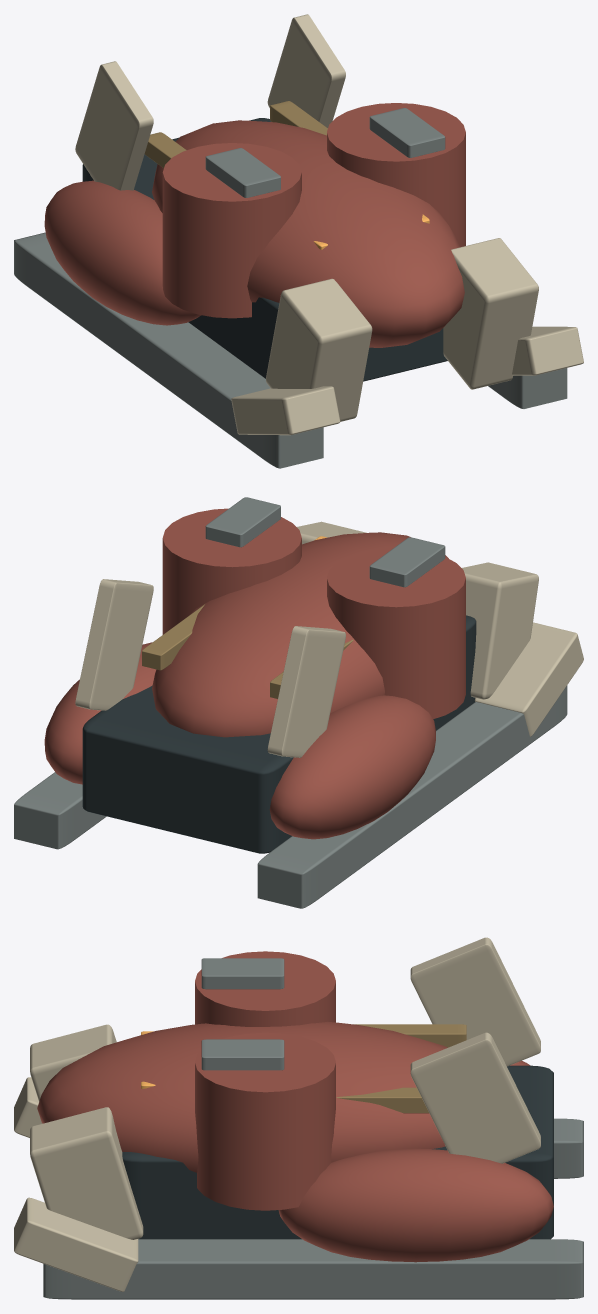
The model's file is warden-machine-split-sled-v1.glb.
3 views of the same model, one above another, from view 1: azimuth 30°, elevation 25°; view 2: azimuth 150°, elevation 25°; view 3: azimuth 270°, elevation 25° (orthographic).
Parts seen in each view (by area): view 1: Hull paint / Housing (×2), Trim / Plate (×6), Hull paint / Cylinder (×2), Steel / Plate (×4), Dark metal / Plate, Brass / Plate (×2); view 2: Hull paint / Housing (×3), Trim / Plate (×5), Steel / Plate (×4), Hull paint / Cylinder (×2), Dark metal / Plate, Brass / Plate; view 3: Hull paint / Housing (×2), Trim / Plate (×6), Steel / Plate (×4), Hull paint / Cylinder (×2), Dark metal / Plate, Brass / Plate (×2).
Boxes of the visible parts, x1=… form: Hull paint / Housing (×2): x1=44, y1=120, x2=464, y2=347; Trim / Plate (×6): x1=75, y1=14, x2=583, y2=435; Hull paint / Cylinder (×2): x1=162, y1=103, x2=465, y2=318; Steel / Plate (×4): x1=14, y1=108, x2=567, y2=468; Dark metal / Plate: x1=82, y1=118, x2=447, y2=381; Brass / Plate (×2): x1=144, y1=101, x2=327, y2=168; Hull paint / Housing (×3): x1=44, y1=532, x2=448, y2=839; Trim / Plate (×5): x1=75, y1=521, x2=583, y2=757; Steel / Plate (×4): x1=14, y1=497, x2=567, y2=908; Hull paint / Cylinder (×2): x1=162, y1=508, x2=465, y2=719; Dark metal / Plate: x1=82, y1=615, x2=476, y2=853; Brass / Plate: x1=142, y1=604, x2=204, y2=670; Hull paint / Housing (×2): x1=37, y1=1021, x2=553, y2=1262; Trim / Plate (×6): x1=14, y1=937, x2=540, y2=1291; Steel / Plate (×4): x1=43, y1=958, x2=583, y2=1299; Hull paint / Cylinder (×2): x1=195, y1=951, x2=335, y2=1210; Dark metal / Plate: x1=122, y1=1065, x2=553, y2=1239; Brass / Plate (×2): x1=336, y1=1024, x2=466, y2=1113.
Size of the model in its own units: 0.2057 by 0.1426 by 0.3073.
